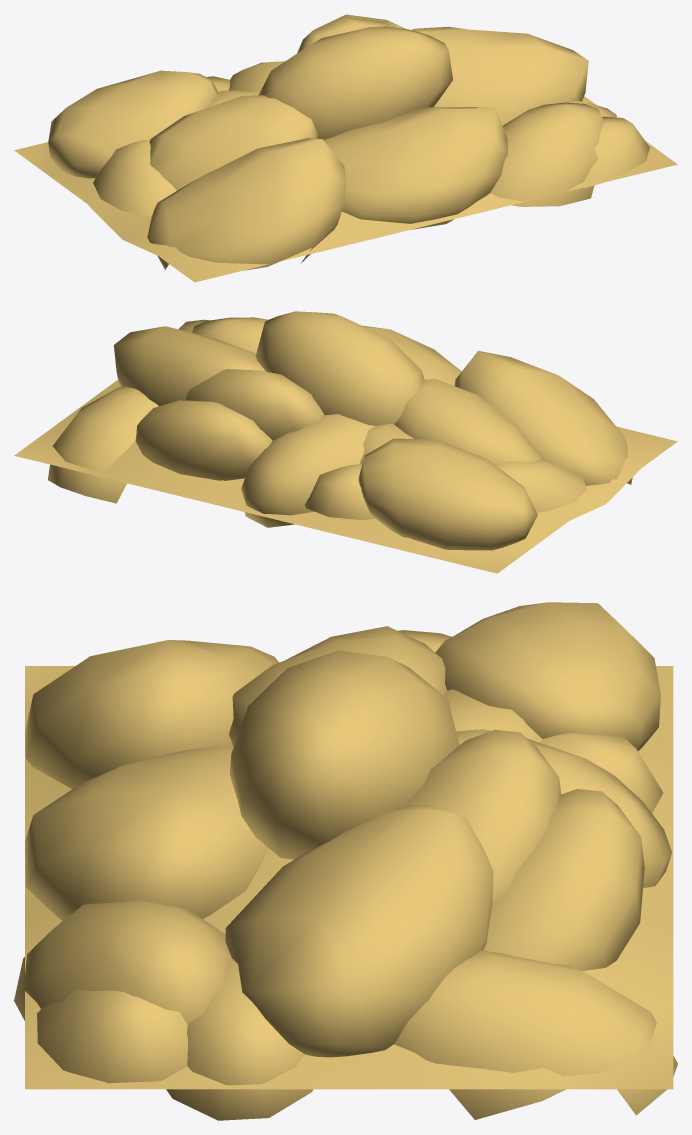
File: mesh_farmtruck_fullcrate01.fbx
3 views of the same model, one above another, from view 1: azimuth 30°, elevation 25°; view 2: azimuth 150°, elevation 25°; view 3: azimuth 270°, elevation 25° (orthographic). The views are drawn at different scales.
Parts seen in each view (by area): view 1: mesh_farmtruck_fullcrate01; view 2: mesh_farmtruck_fullcrate01; view 3: mesh_farmtruck_fullcrate01.
Part boxes in pixels (x1,y1,x2,y2): mesh_farmtruck_fullcrate01: (14,14,677,282); mesh_farmtruck_fullcrate01: (14,311,677,573); mesh_farmtruck_fullcrate01: (14,602,677,1120).
Bounding box in the file's own units: 1.08 × 0.314 × 0.7132.
